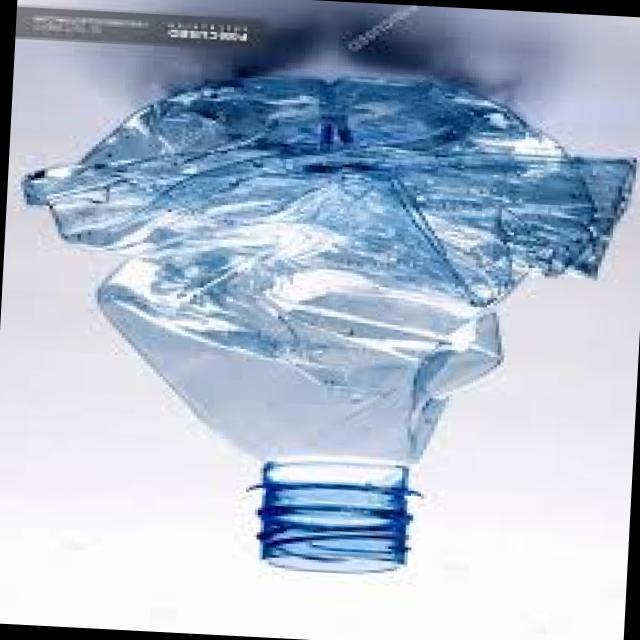defected: (4, 47, 640, 608)
